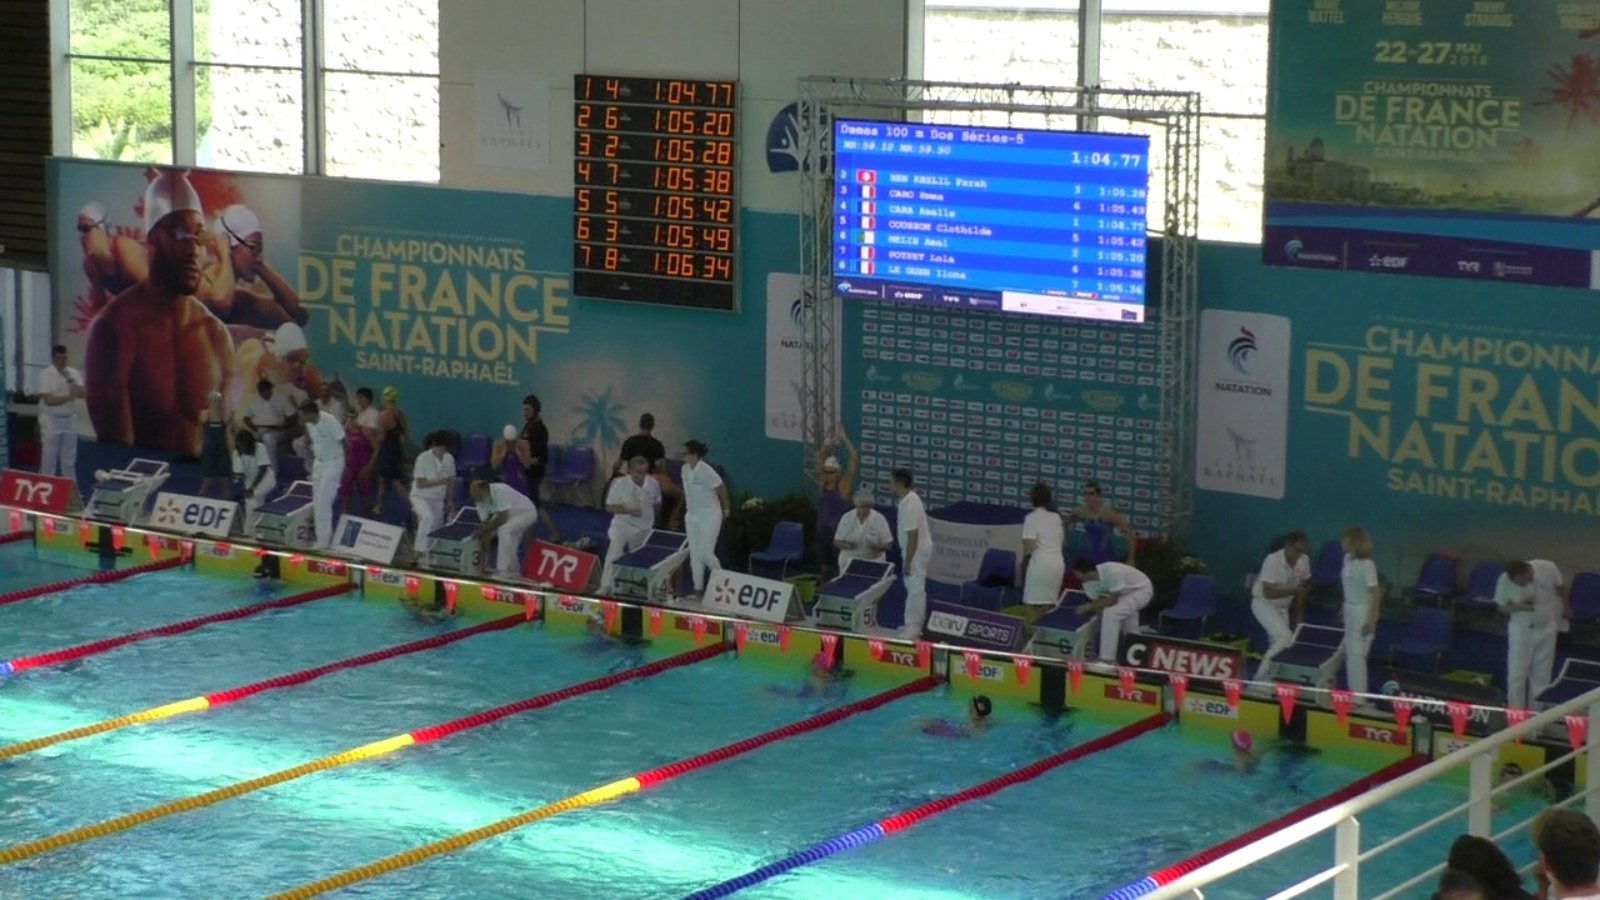swimmerw: (562, 600, 642, 663), (901, 693, 998, 744), (762, 648, 846, 703), (1197, 727, 1270, 781), (386, 585, 470, 625), (225, 559, 290, 604)
